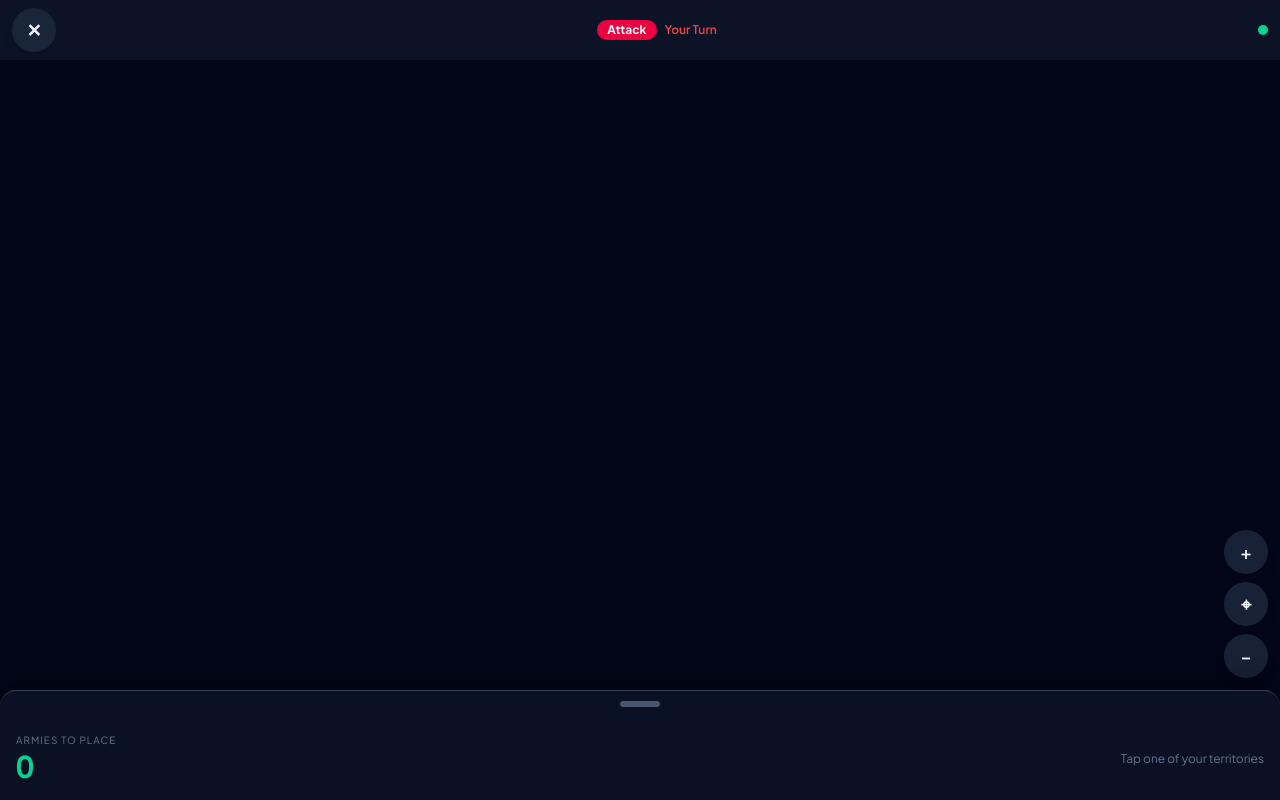
Scenario: FullscreenGameMap › treats a small handle movement as a tap toggle rather than a drag
This screenshot has width=1280, height=800.
Press the mouse on the button named "Collapse action panel" at {"x": 640, "y": 704}, box [0,691,1279,717]
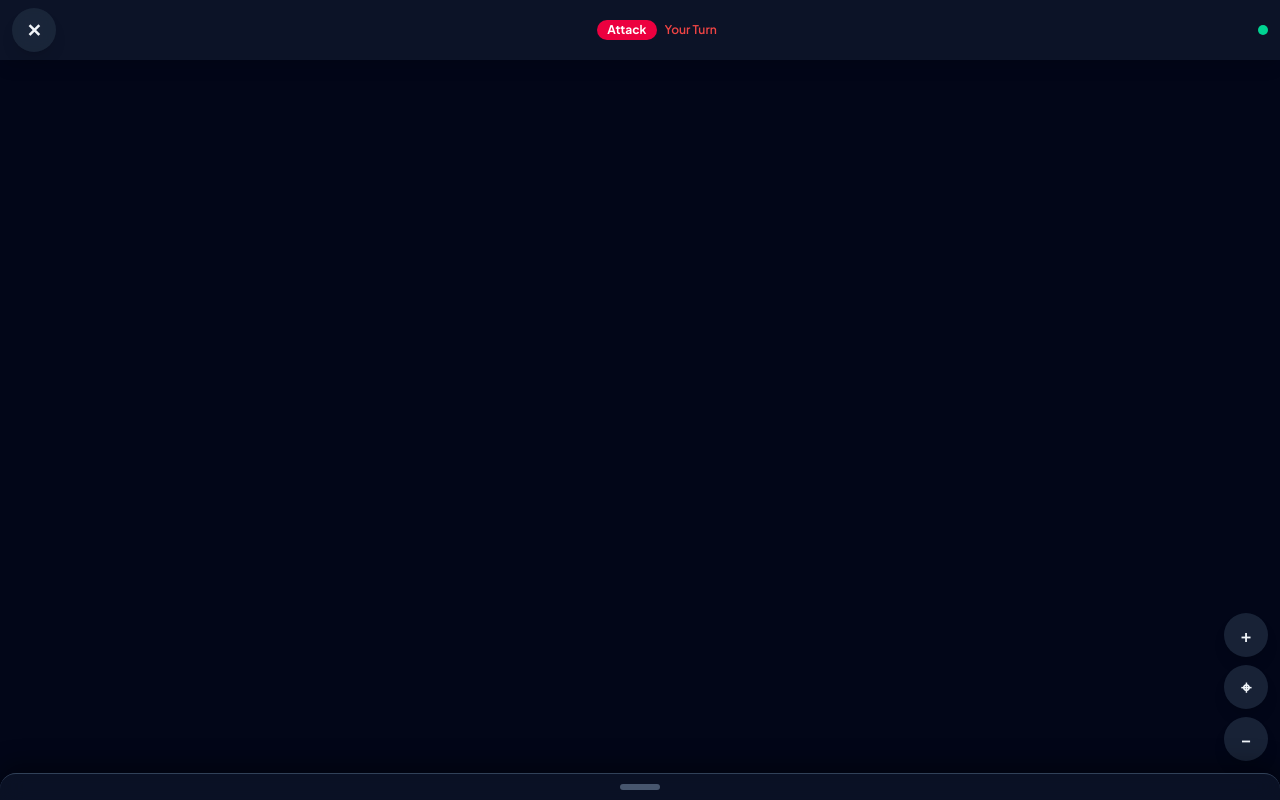
Now the button named "Expand action panel" is collapsed, box [0,774,1279,799]
